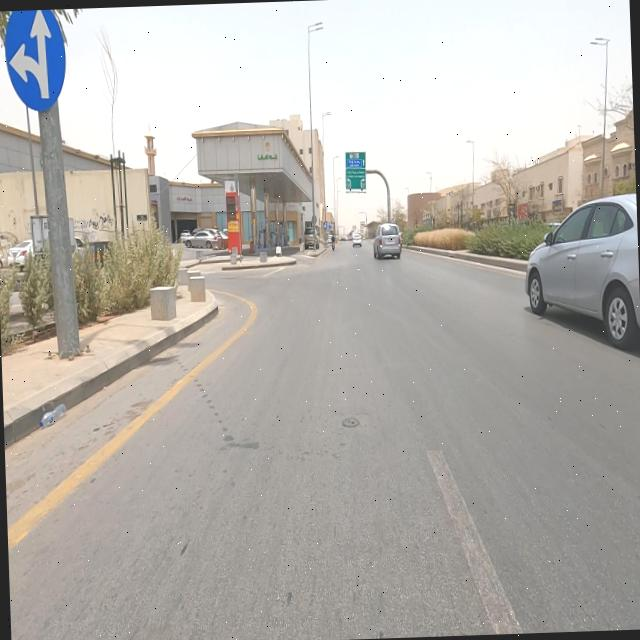Graffiti: (74, 209, 116, 244), (1, 230, 19, 249)
